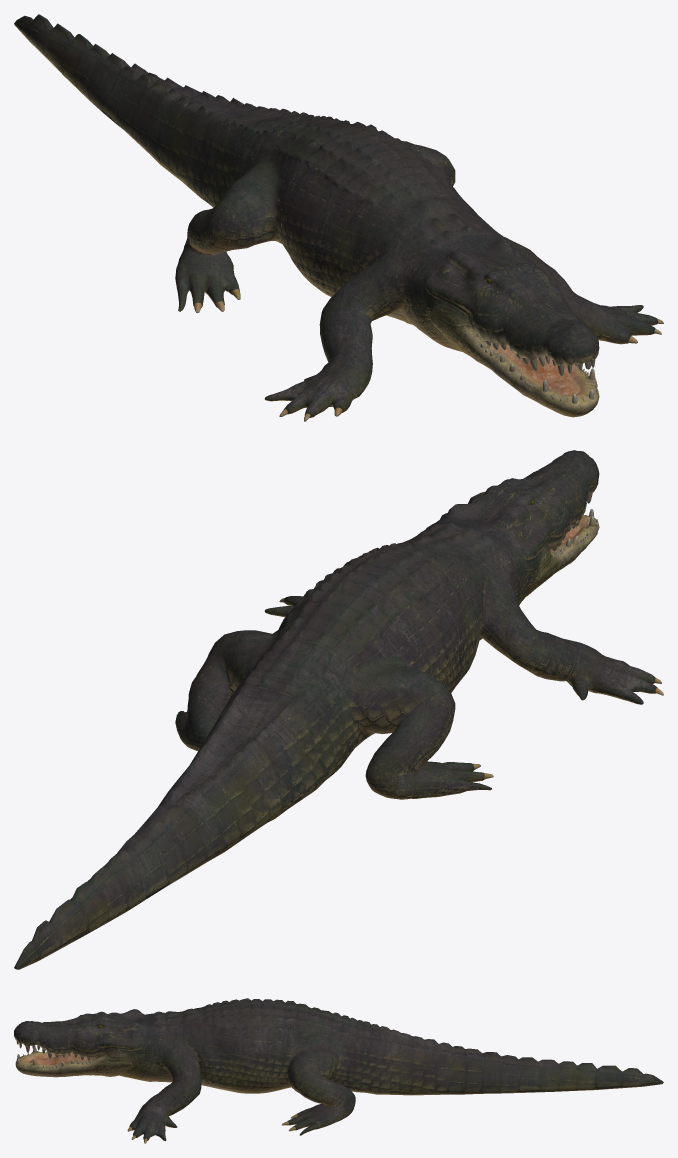
File: deinosuchus_parado.glb
3 renders of one model, top to bottom at view 1: azimuth 30°, elevation 25°; view 2: azimuth 150°, elevation 25°; view 3: azimuth 270°, elevation 25°, orthographic. The views are drawn at different scales.
Parts seen in each view (by area): view 1: Crocodile_Crocodile_0_fixo; view 2: Crocodile_Crocodile_0_fixo; view 3: Crocodile_Crocodile_0_fixo.
Part boxes in pixels (x1,y1,x2,y2): Crocodile_Crocodile_0_fixo: (14,14,663,421); Crocodile_Crocodile_0_fixo: (14,450,663,969); Crocodile_Crocodile_0_fixo: (14,998,663,1143).
Size of the model in its own units: 29.13 by 11.34 by 75.12.
1 material, 1 textured.
